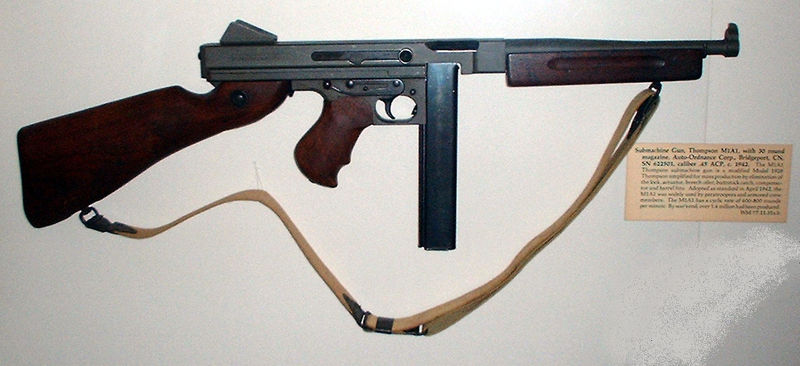rifle: (15, 11, 746, 319)
